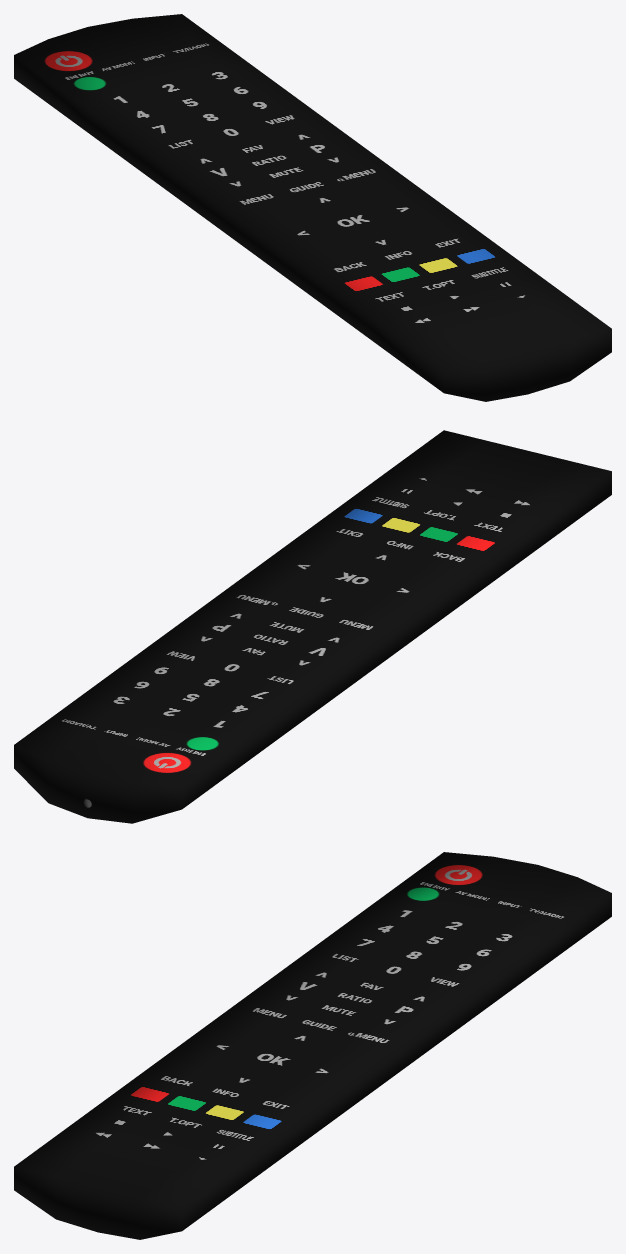
The model's file is tv_controller_-_low_poly.glb.
3 renders of one model, top to bottom at view 1: azimuth 30°, elevation 25°; view 2: azimuth 150°, elevation 25°; view 3: azimuth 330°, elevation 25°, orthographic.
Visible parts, largest first — view 1: low poly; view 2: low poly; view 3: low poly.
Part boxes in pixels (x1=…): low poly: x1=14, y1=14, x2=611, y2=401; low poly: x1=14, y1=430, x2=611, y2=823; low poly: x1=14, y1=852, x2=611, y2=1239.
Size of the model in its own units: 2.39 by 0.6155 by 10.86.
Materials: 1 (1 with a texture image).
